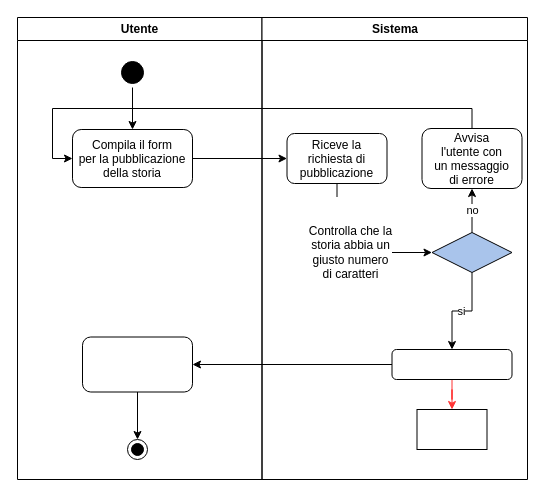
Image size: 545x497. Some labels were removed from this diagram. Here are the shapes that lost their labels. From the top down, the centre of each, then its label:
At point 137,364: "Riceve il messaggio di avvenuta pubblicazione".
At point 451,364: "Creazione Storia".
At point 451,429: "Storia [Creata]".
